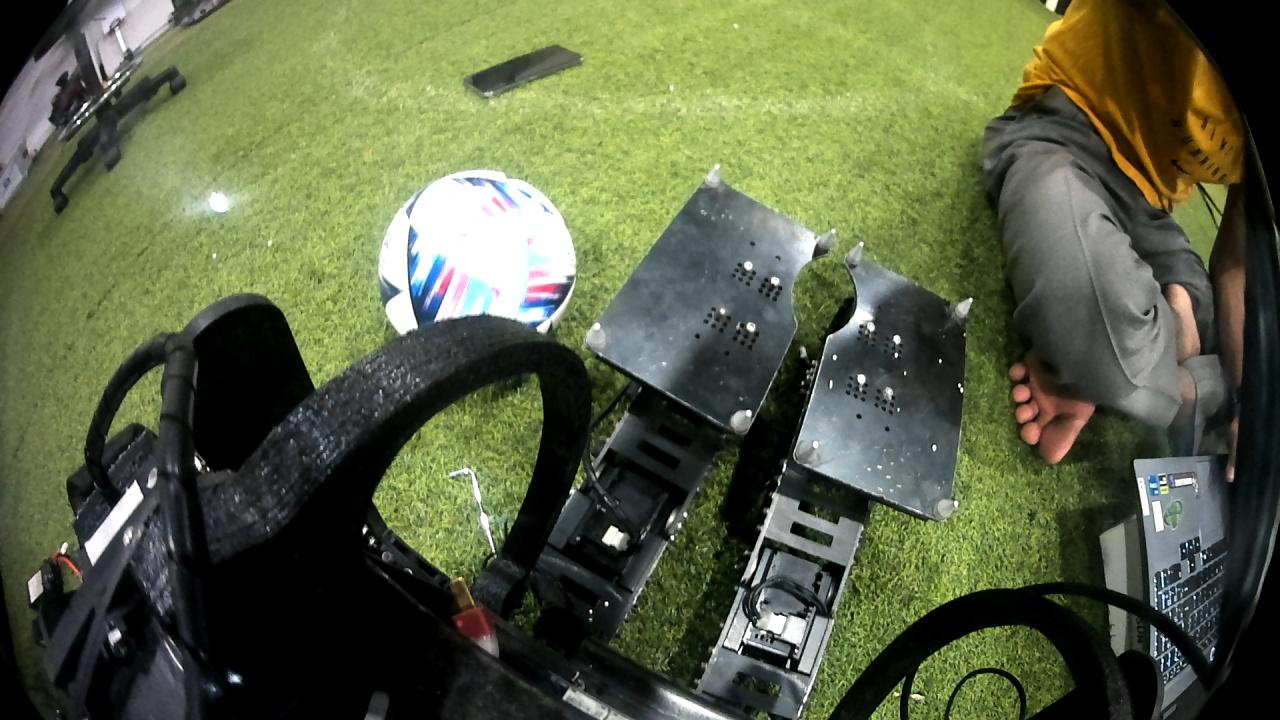ball: (370, 163, 589, 365)
